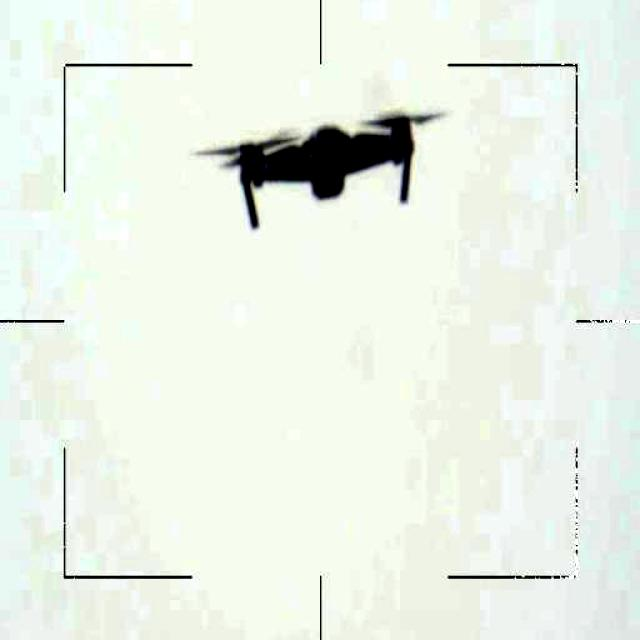bird: (190, 95, 446, 235)
